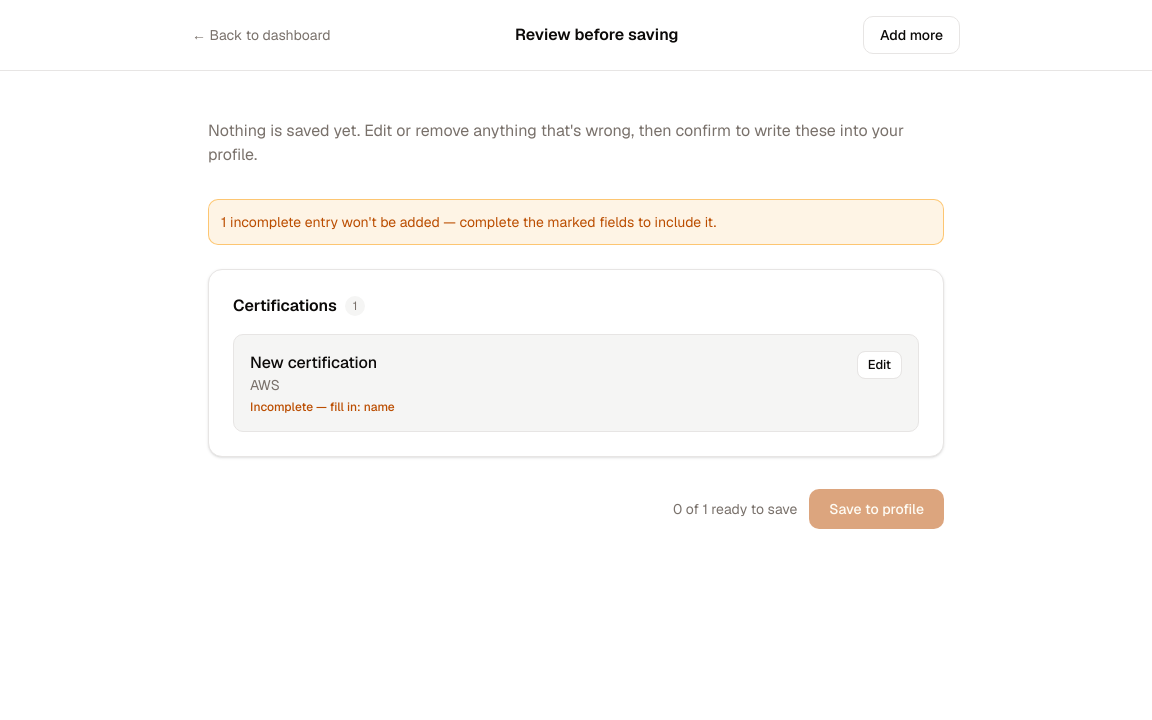
Test: OnboardingReviewPage › re-enables "Save to profile" once the user fills in the missing field via the reused edit modal
This screenshot has width=1152, height=720.
Expected: the text "Incomplete — fill in: name" is shown, [250,399,395,415]
Click the button "Edit": (879,365) [857,351,902,379]
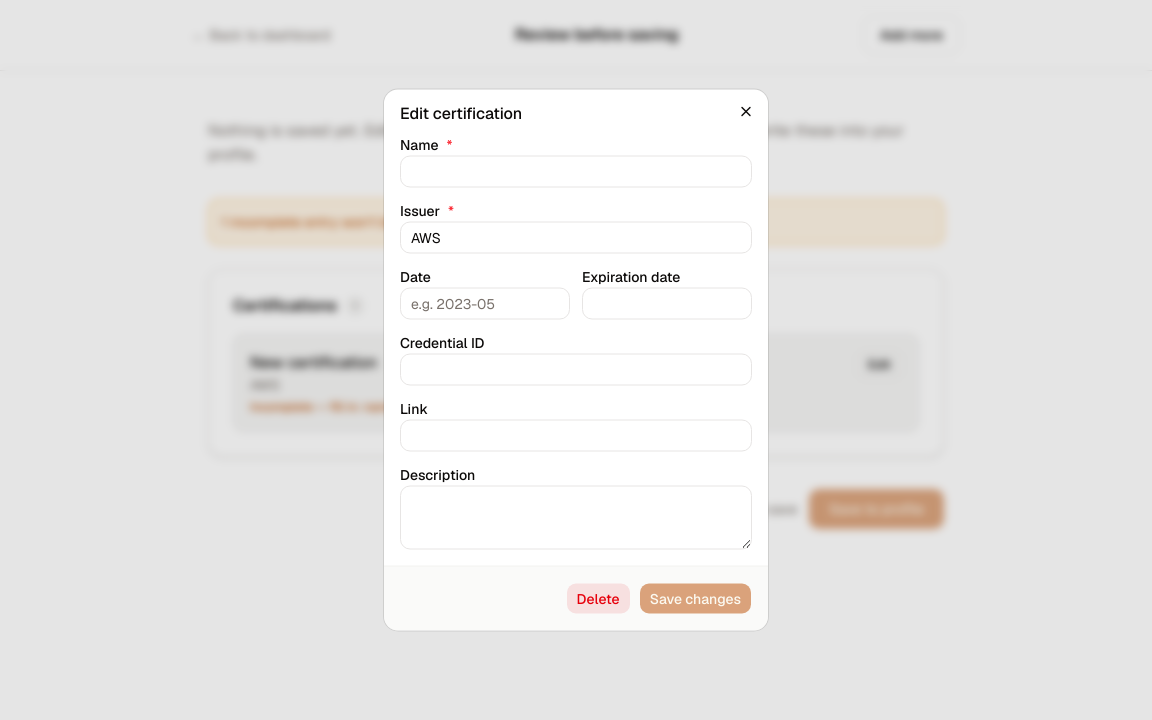
In the field labelled "Name *": (576,172) [400,156,752,188], type "AWS Developer"
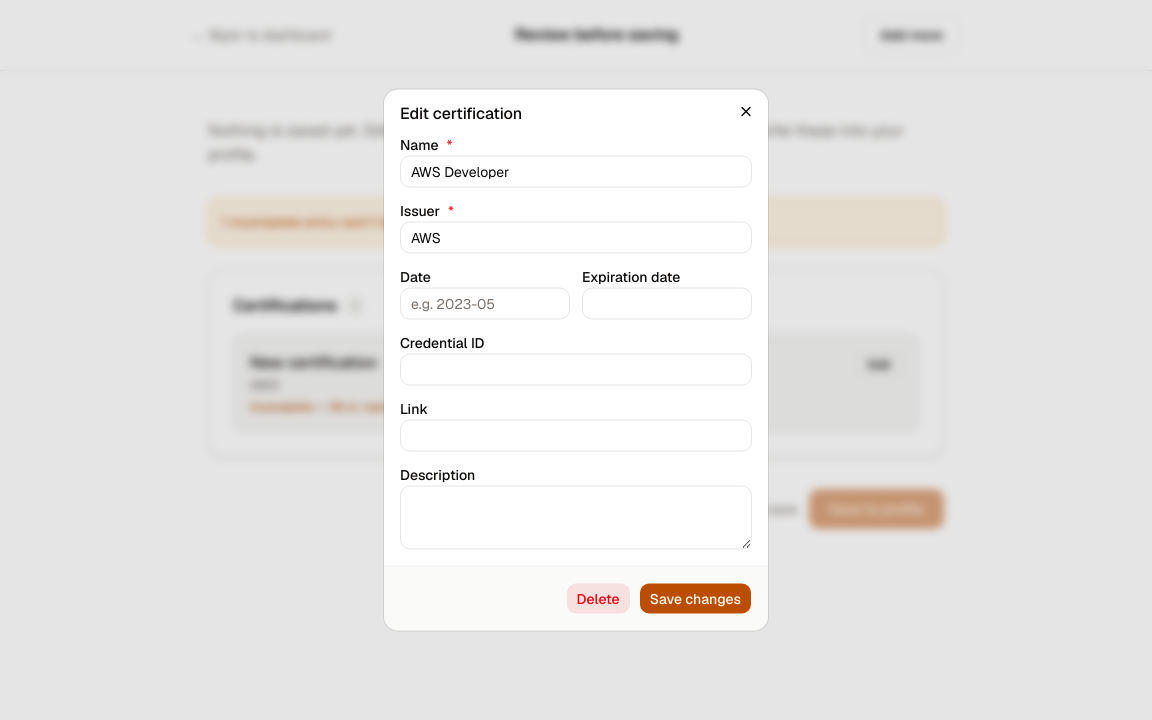
Click the button "Save changes": (695,598) [639,582,752,614]
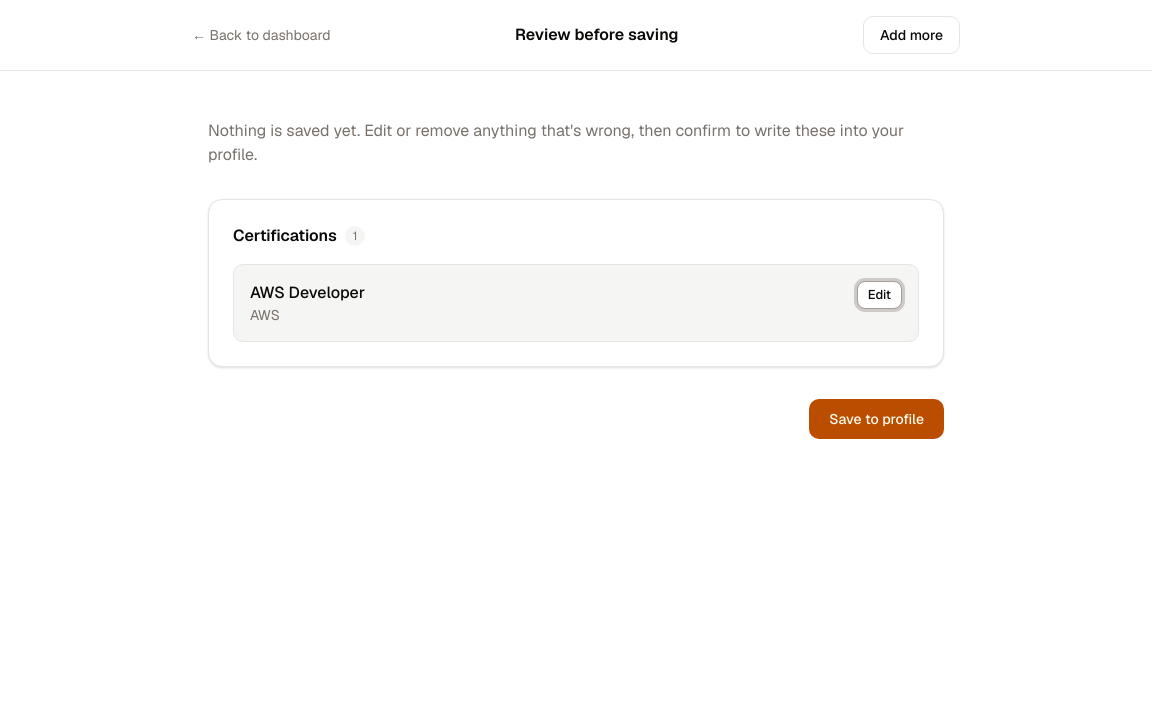
Now the text "Incomplete — fill in: name" is gone
Now the button "Save to profile" is enabled, box [809,399,944,439]
